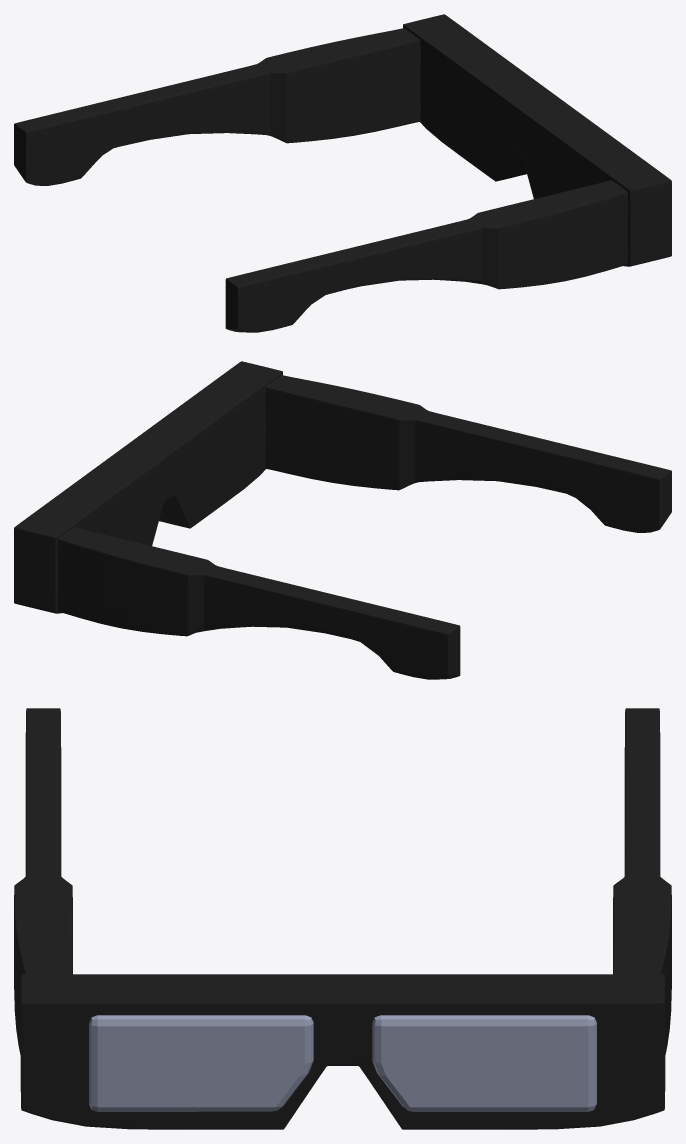
The model's file is glass.fbx.
3 renders of one model, top to bottom at view 1: azimuth 30°, elevation 25°; view 2: azimuth 150°, elevation 25°; view 3: azimuth 270°, elevation 25°, orthographic. The views are drawn at different scales.
Parts seen in each view (by area): view 1: Cube.009; view 2: Cube.009; view 3: Cube.009, Cube.010.
Part boxes in pixels (left/top/right/bottom): Cube.009: left=14, top=14, right=671, bottom=332; Cube.009: left=14, top=361, right=671, bottom=679; Cube.009: left=14, top=708, right=671, bottom=1129; Cube.010: left=89, top=1015, right=596, bottom=1111.
Bounding box in the file's own units: 141 × 27.8 × 130.
